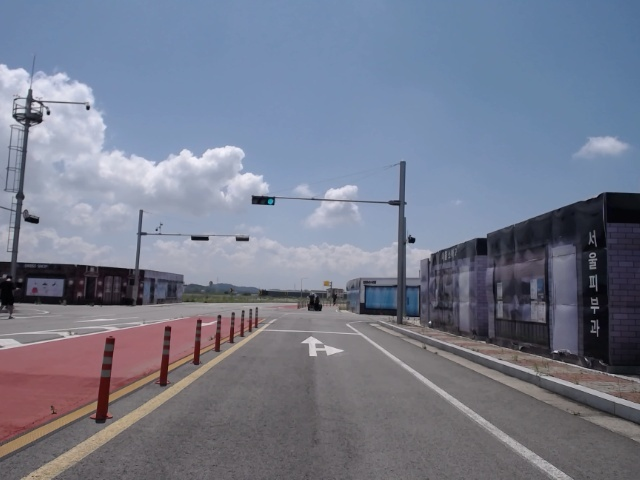green_3: (253, 197, 274, 205)
